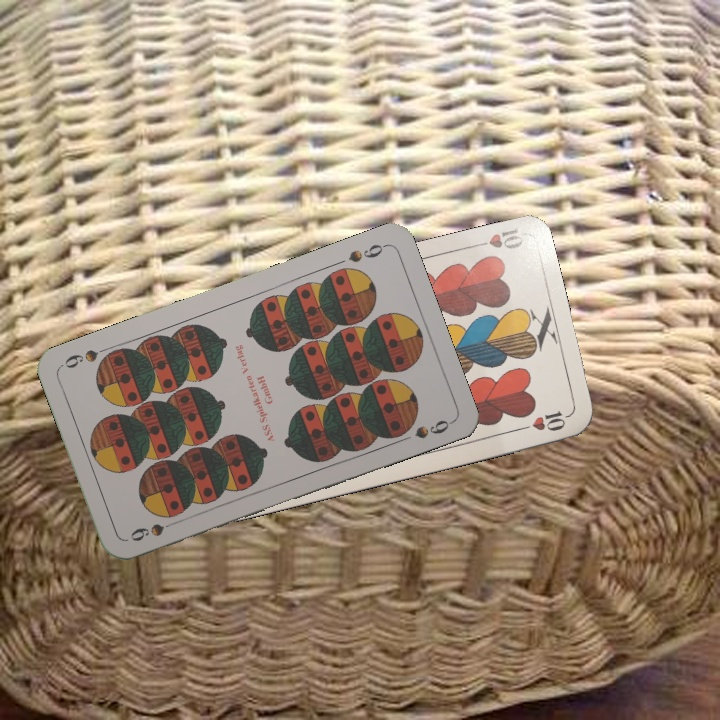H10: (466, 224, 527, 252)
S9: (126, 516, 182, 544), (344, 240, 389, 266)
